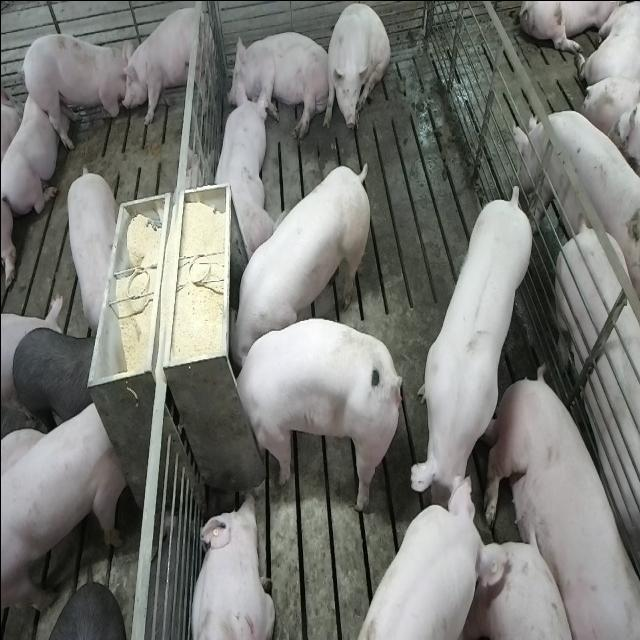Feeding: (224, 316, 396, 514), (228, 158, 376, 366)
Lateral_lying: (482, 367, 636, 640), (225, 29, 331, 141)
Sitting: (324, 5, 389, 136)
Standing: (404, 184, 532, 522), (550, 220, 640, 568), (1, 394, 126, 618), (518, 103, 640, 295), (352, 485, 496, 640), (22, 28, 128, 150), (120, 2, 209, 130), (62, 160, 116, 332), (11, 326, 96, 428)
Sternal_lying: (186, 490, 274, 640), (208, 86, 274, 262), (1, 80, 58, 216)
